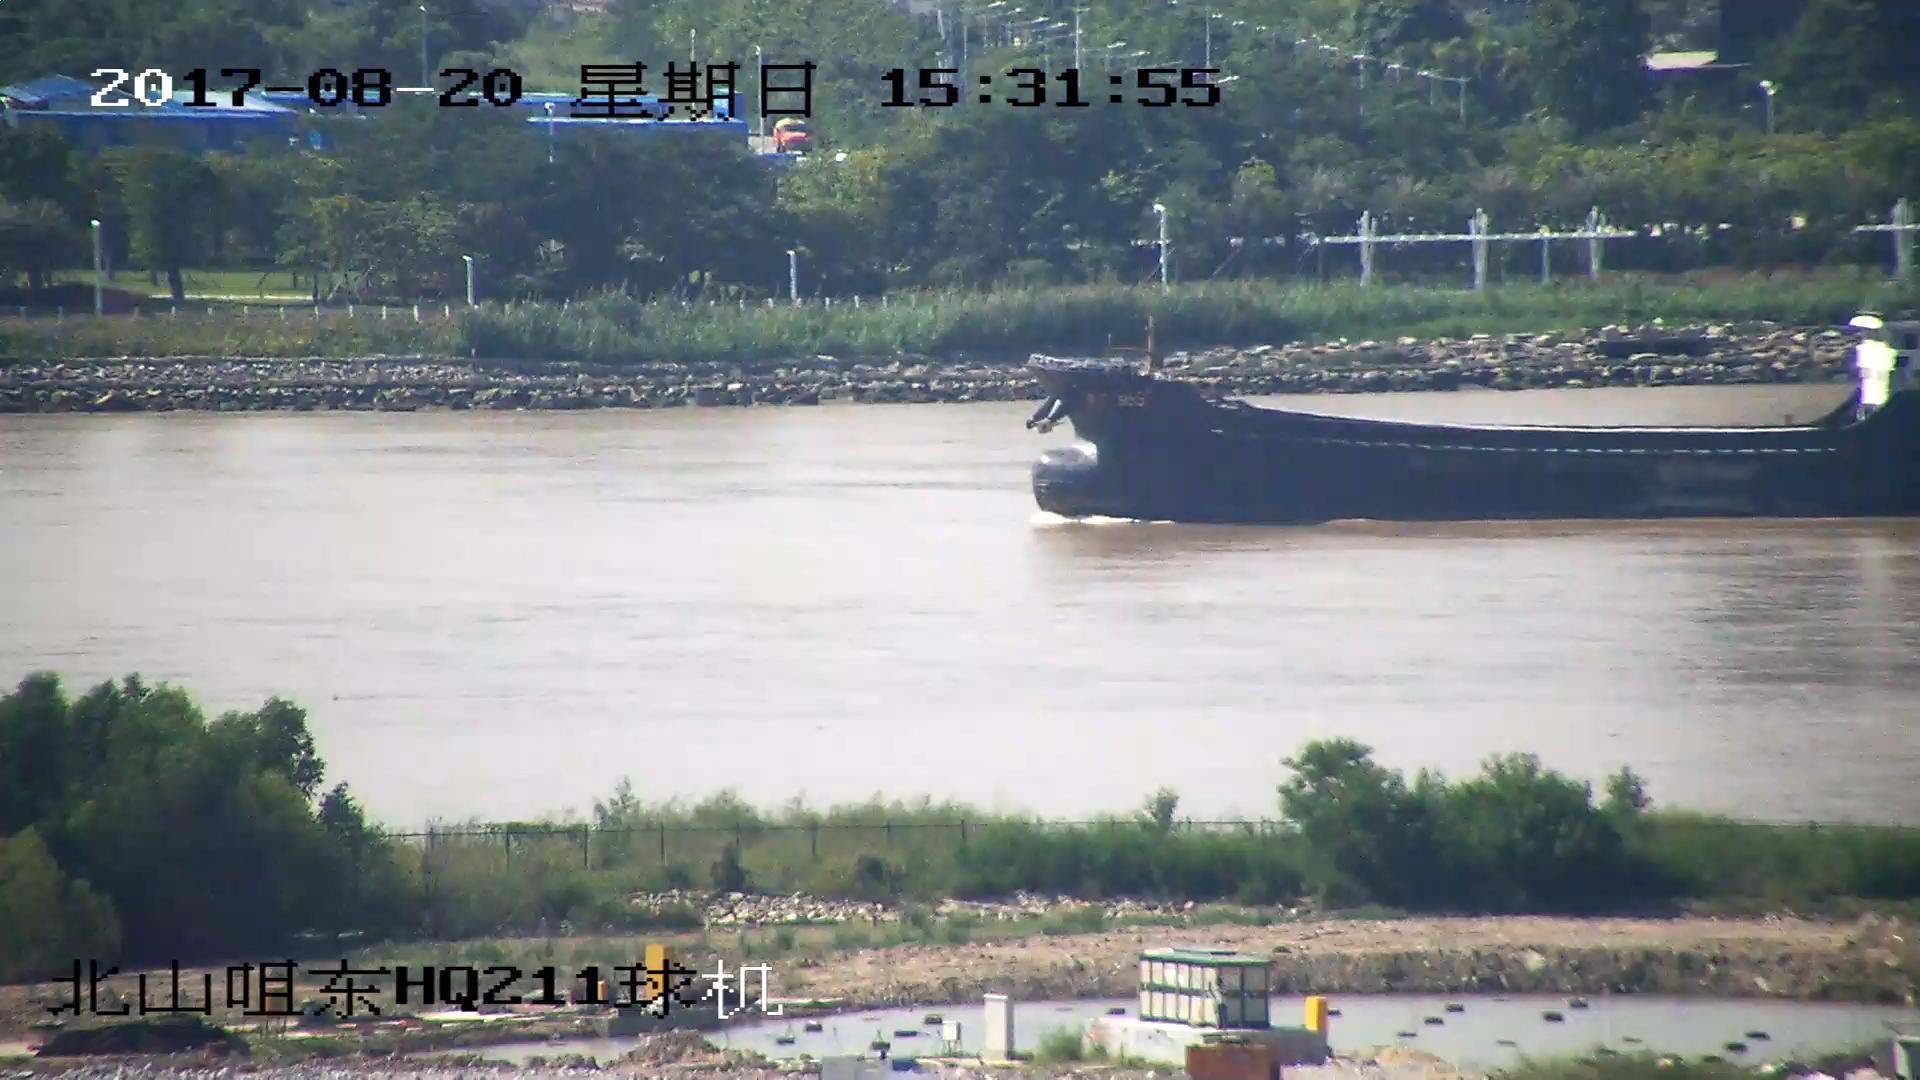Ship: (1018, 328, 1920, 516)
